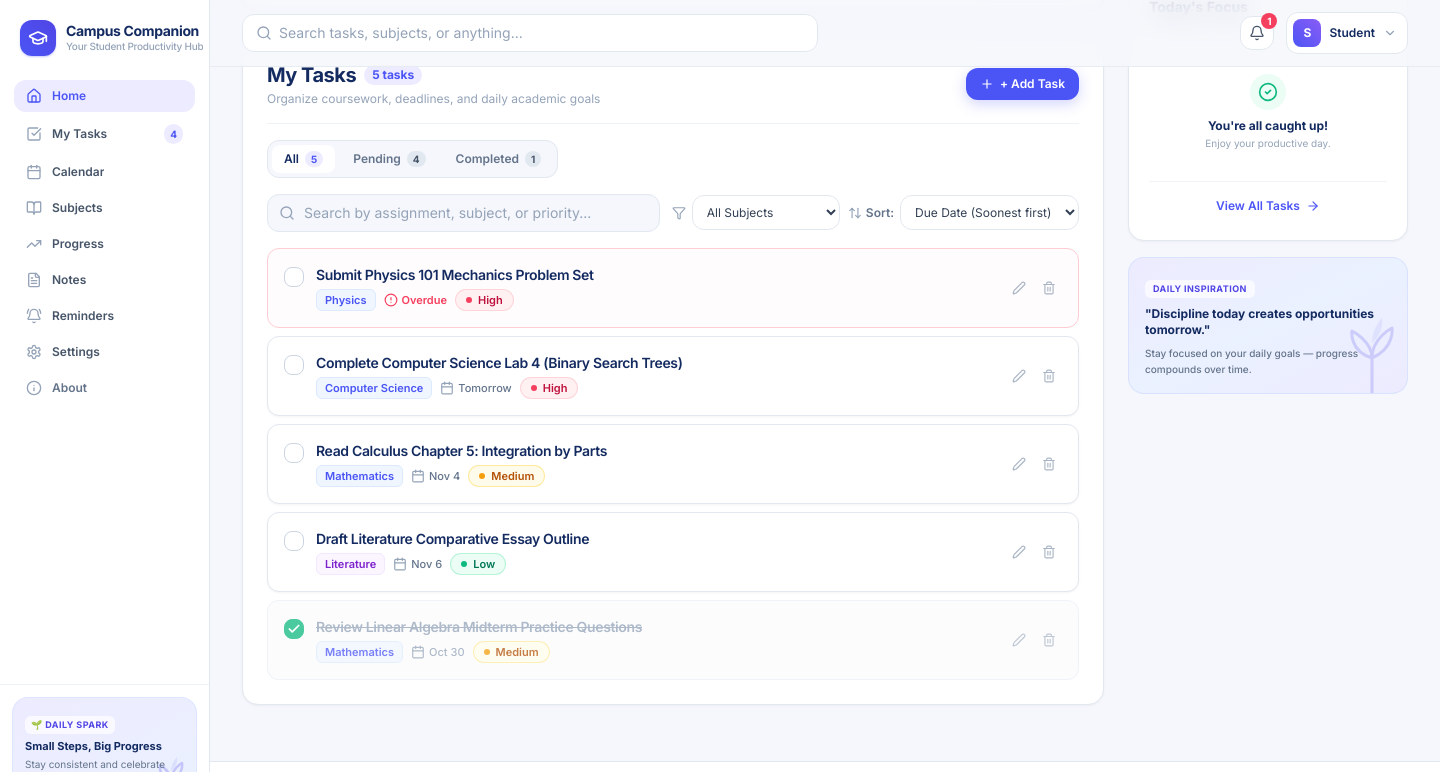
Test: Campus Companion Application › edits an existing task and saves changes
(page scrolled)
Click the button named "Edit Read Calculus Chapter 5: Integration by Parts". click: (1019, 464)
box: top-left (1006, 450), bottom-right (1032, 476)
(page scrolled)
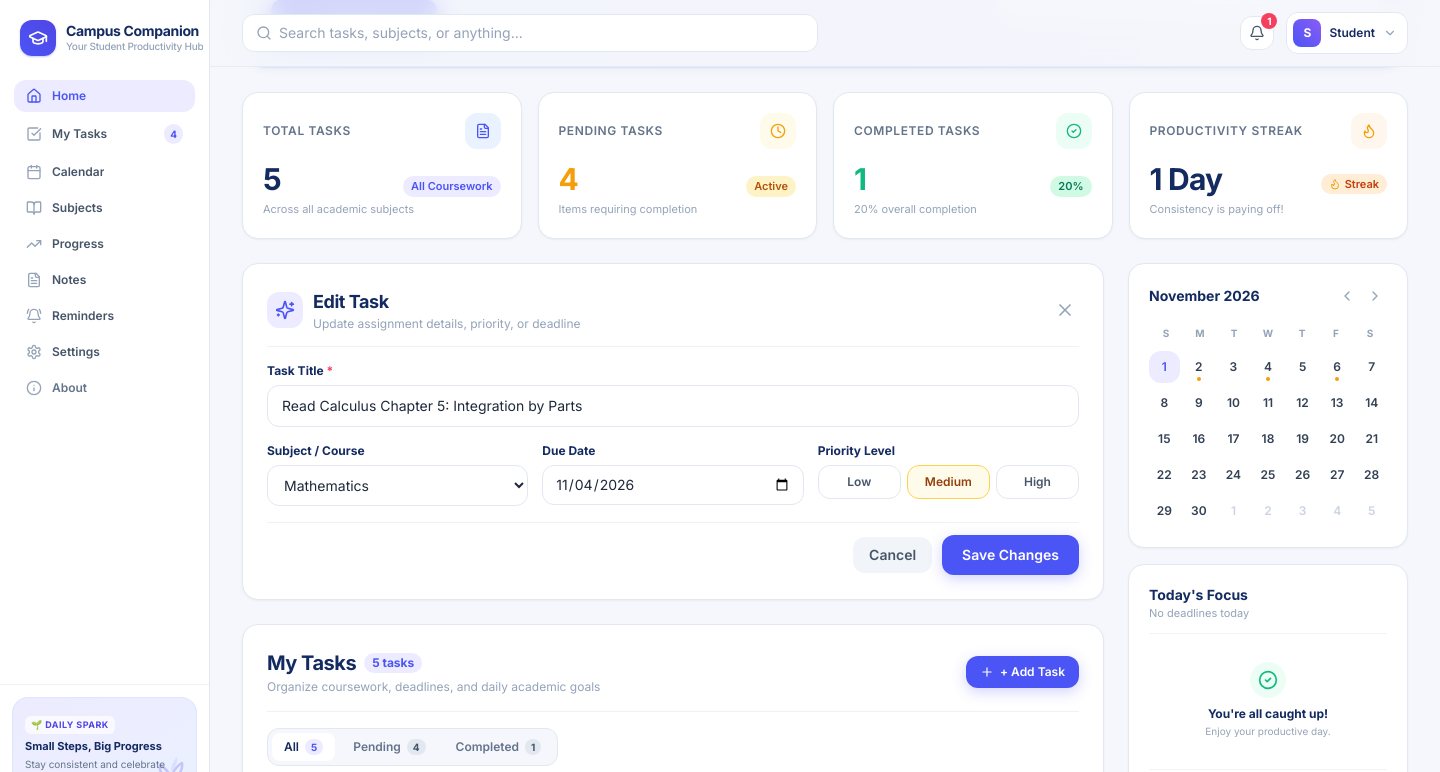
Expected: the heading "Edit Task" is shown, top-left (313, 290), bottom-right (389, 312)
Expected: the field with placeholder "e.g. Complete Calculus Problem Set 3" holds "Read Calculus Chapter 5: Integration by Parts"
# Modify title
Replace the text in the field with placeholder "e.g. Complete Calculus Problem Set 3" with "Read Calculus Chapter 6: Differential Equations". click: (673, 406)
box: top-left (267, 384), bottom-right (1079, 426)
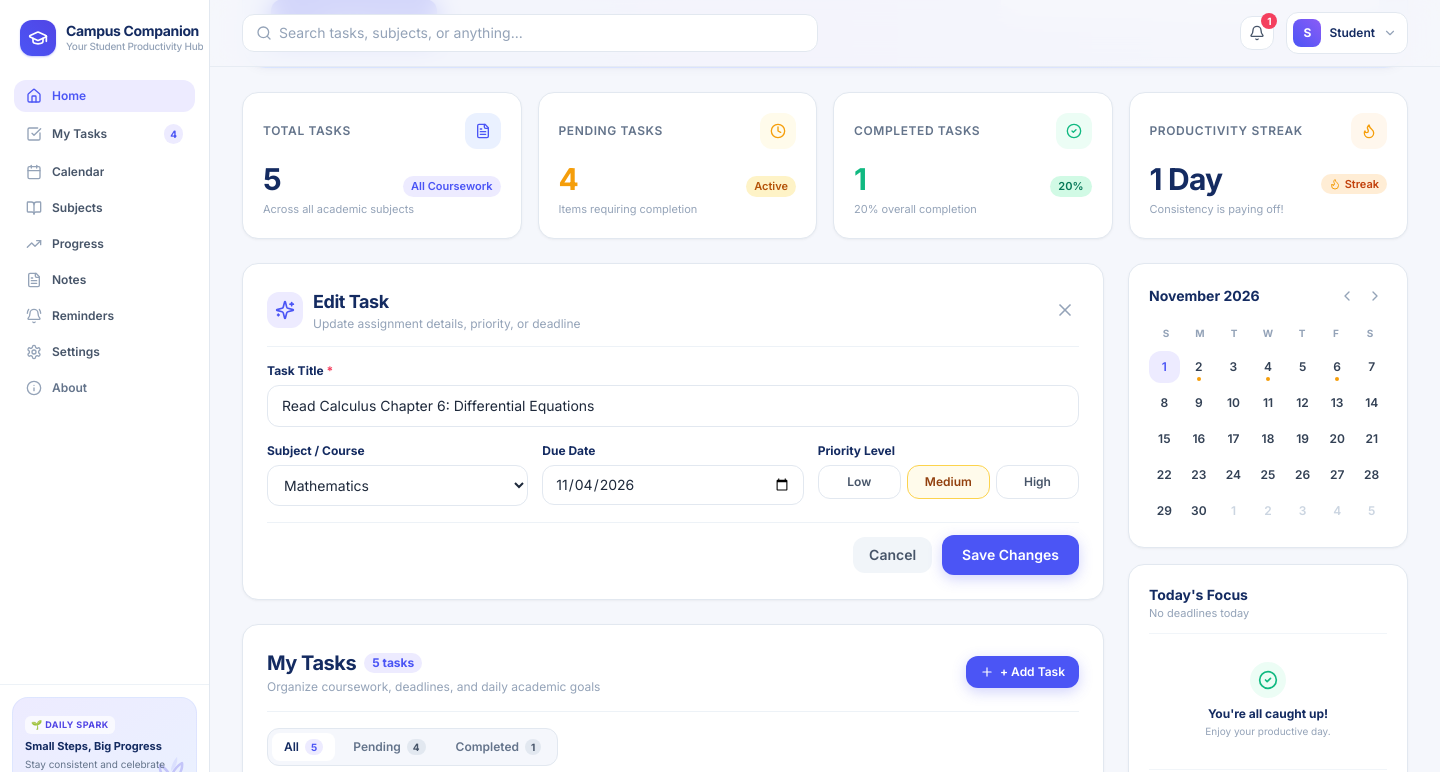
Click the button "Save Changes". click: (1011, 554)
box: top-left (942, 534), bottom-right (1079, 574)
(page scrolled)
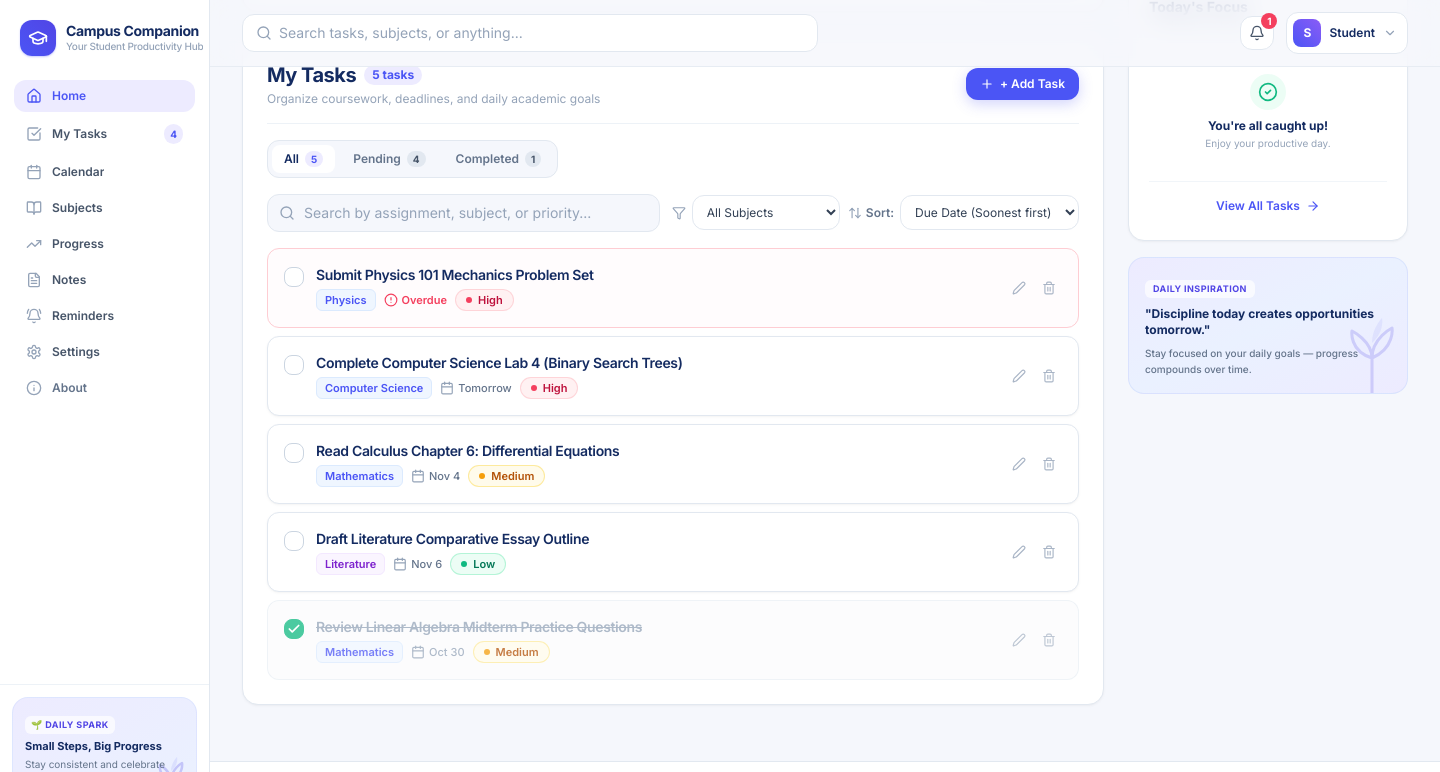
Expected: the text "Read Calculus Chapter 6: Differential Equations" is shown, top-left (316, 440), bottom-right (619, 460)
